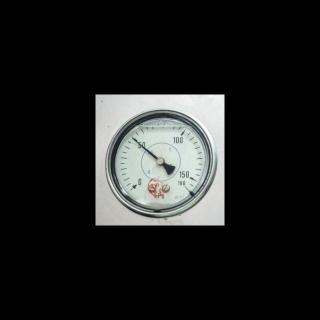gauge: (95, 104, 221, 224), (176, 175, 197, 195), (128, 178, 143, 194), (156, 156, 164, 164), (130, 135, 136, 141)
